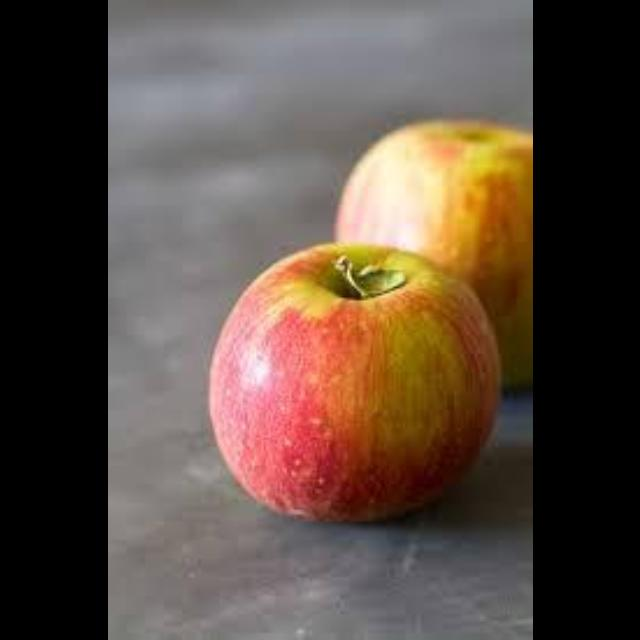apple: (207, 244, 498, 519), (335, 121, 531, 386)
